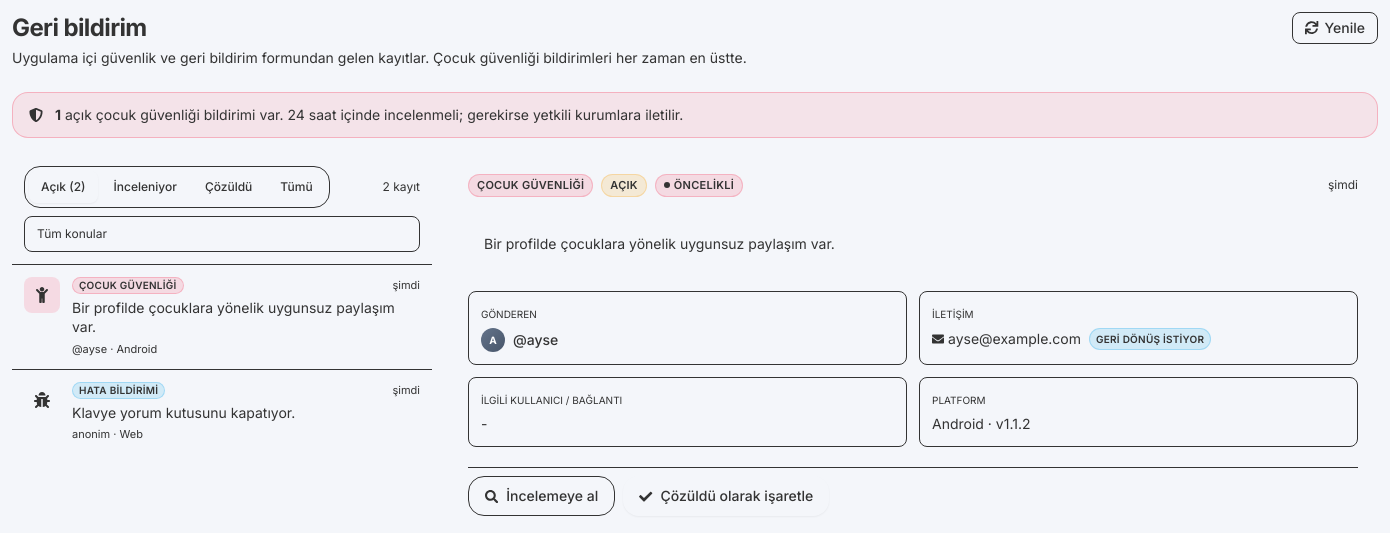
Test case: Mod > Geri bildirim kuyruğu › "İncelemeye al" durumu in_review yapar ve açık filtresinden düşürür
Click the button with test id "feedback-review". click: (542, 496)
box: left=468, top=476, right=615, bottom=516
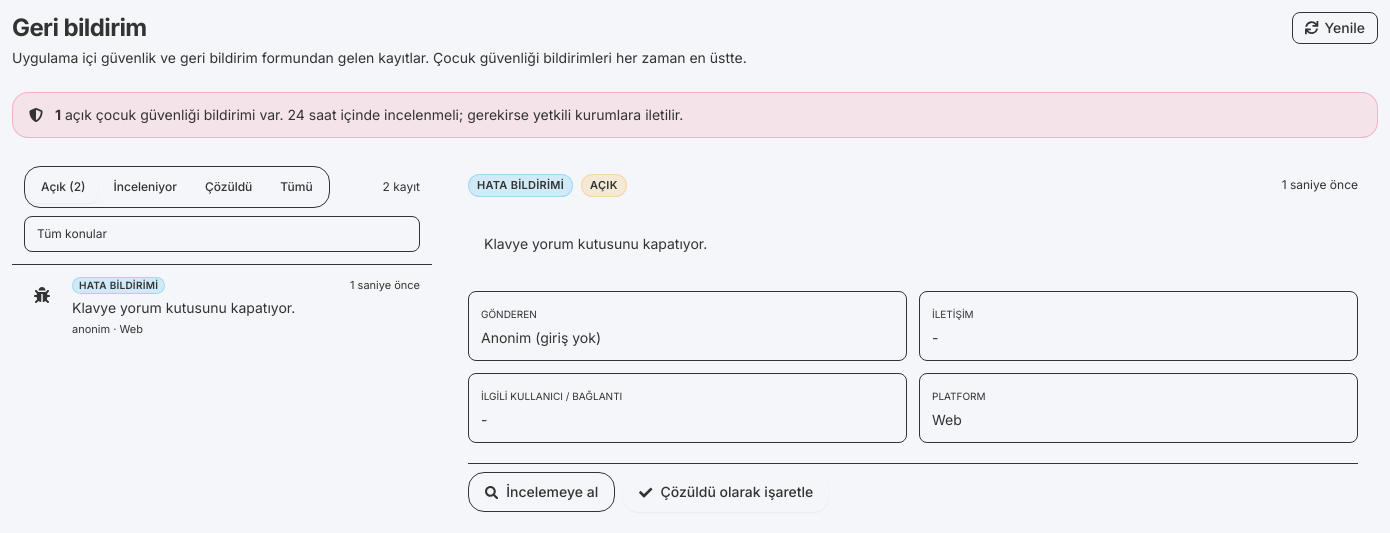
Expected: the button with test id "feedback-row-f1" is gone
